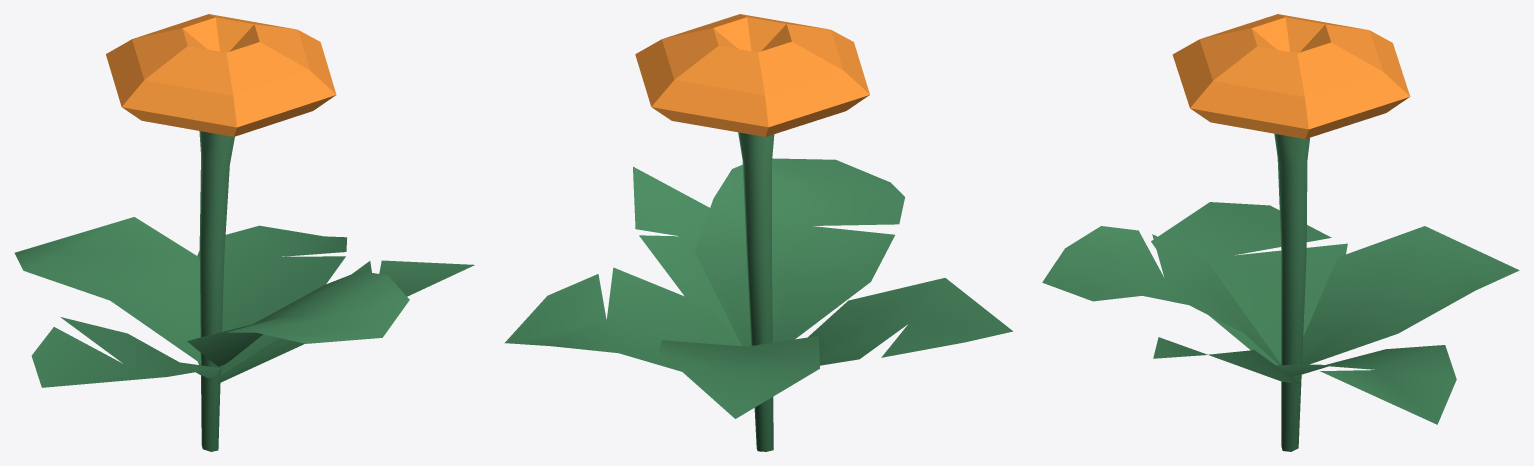
The model's file is Flower_C.fbx.
3 renders of one model, left to right at view 1: azimuth 30°, elevation 25°; view 2: azimuth 150°, elevation 25°; view 3: azimuth 270°, elevation 25°, orthographic. The views are drawn at different scales.
Parts seen in each view (by area): view 1: Flower_C; view 2: Flower_C; view 3: Flower_C.
Part boxes in pixels (x1=…): Flower_C: x1=14, y1=14, x2=474, y2=451; Flower_C: x1=505, y1=14, x2=1012, y2=451; Flower_C: x1=1042, y1=14, x2=1519, y2=451.
Size of the model in its own units: 44.07 by 42.61 by 44.02.
